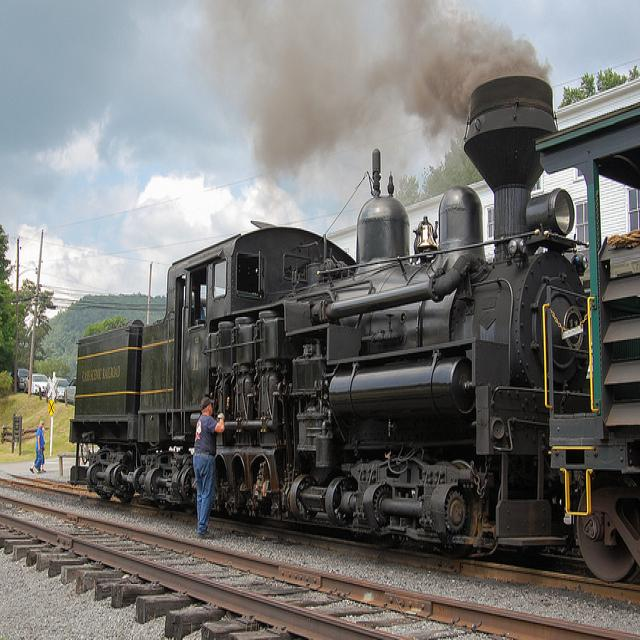Vehicle: (24, 374, 49, 394), (66, 377, 76, 406), (56, 376, 68, 399), (19, 368, 28, 391)
